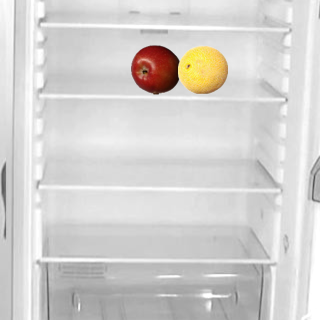Apple Braeburn: (130, 44, 180, 94)
Cantaloupe 1: (177, 44, 227, 94)
